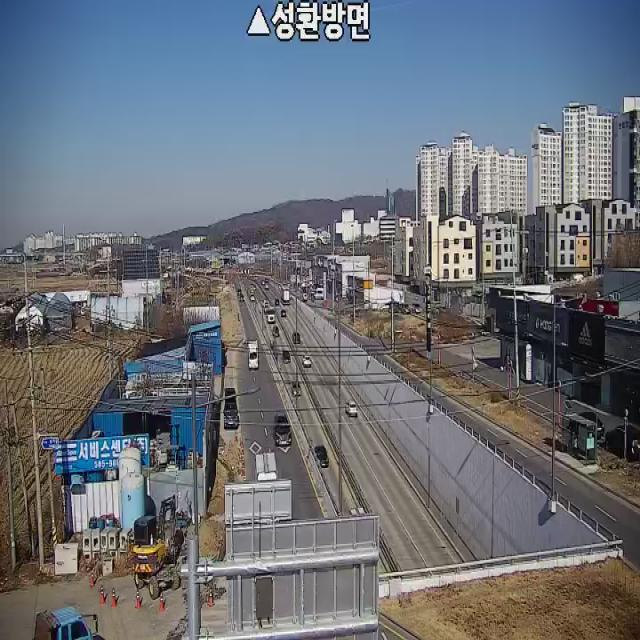Car: (605, 424, 640, 460), (573, 411, 604, 441), (274, 413, 292, 446), (314, 446, 328, 467), (345, 401, 357, 416), (292, 381, 301, 396), (302, 355, 312, 367), (292, 330, 301, 343), (283, 350, 291, 364), (273, 325, 279, 337), (280, 310, 286, 316), (275, 298, 279, 305)
Truck: (34, 607, 99, 640), (223, 388, 237, 428), (248, 340, 258, 368), (281, 288, 290, 306), (266, 307, 276, 322)
